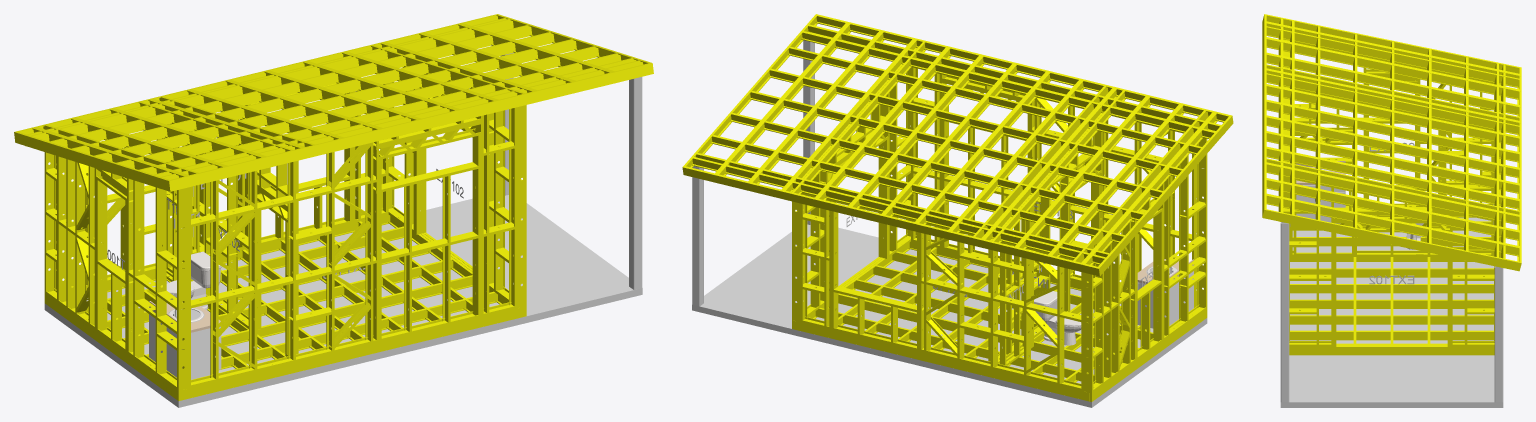
The model's file is modular-unit.glb.
The picture shows the model from 3 angles, left to right: view 1: azimuth 30°, elevation 25°; view 2: azimuth 150°, elevation 25°; view 3: azimuth 270°, elevation 25°; orthographic projection. The views are drawn at different scales.
Visible parts, largest first — view 1: part_05, part_06, part_04, part_01, part_07, part_00; view 2: part_05, part_06, part_04, part_07, part_01; view 3: part_05, part_06, part_04, part_01, part_00.
Part boxes in pixels (x1,y1,x2,y2): part_05: (14,14,653,401); part_06: (44,195,642,407); part_04: (500,52,642,289); part_01: (149,314,221,379); part_07: (166,251,222,322); part_00: (107,168,463,322); part_05: (682,14,1233,401); part_06: (692,224,1207,407); part_04: (692,40,814,306); part_07: (1034,266,1177,345); part_01: (1137,271,1193,328); part_05: (1262,14,1521,355); part_06: (1280,168,1503,407); part_04: (1280,222,1503,402); part_01: (1296,185,1345,223); part_00: (1290,142,1493,284).
Size of the model in its own units: 7.62 by 3.6 by 4.27.
